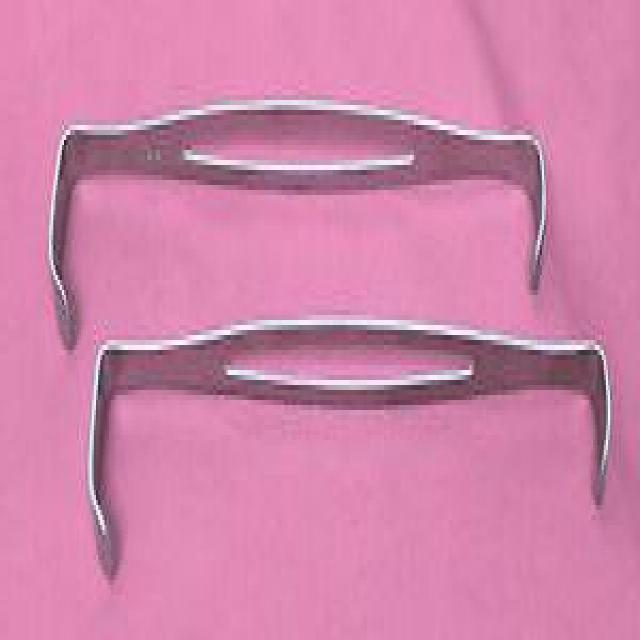Army_navy: (81, 295, 619, 585), (44, 75, 554, 355)
